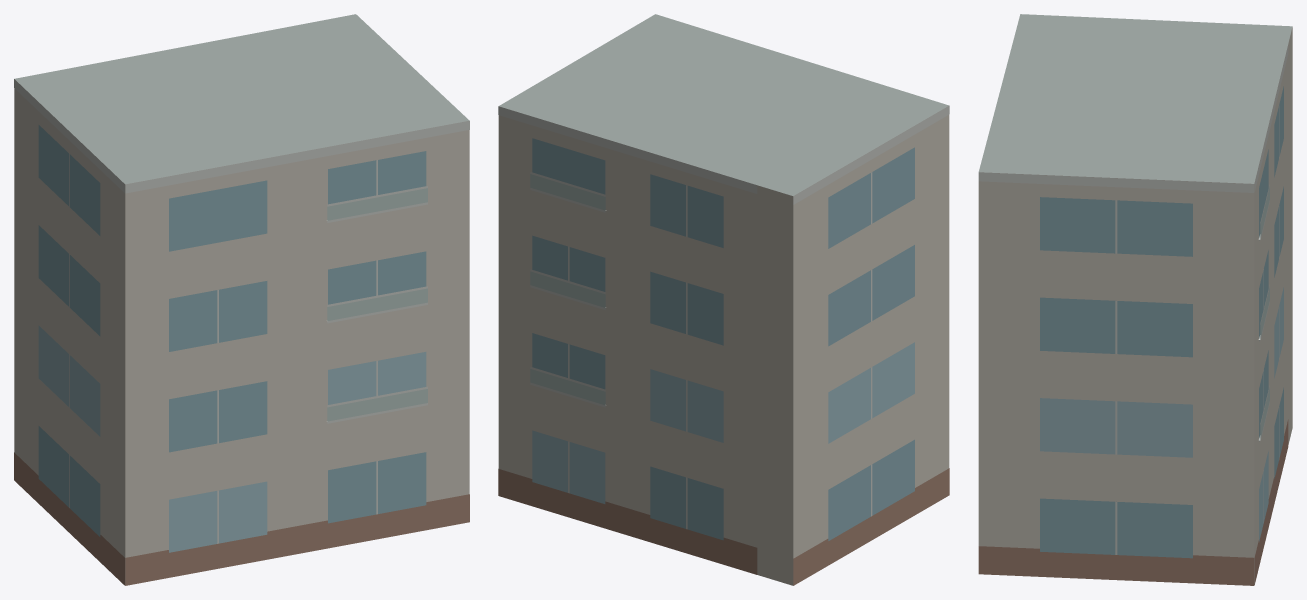
File: survey-upis-32565678.glb
3 views of the same model, side by side, from view 1: azimuth 30°, elevation 25°; view 2: azimuth 150°, elevation 25°; view 3: azimuth 270°, elevation 25° (orthographic). The views are drawn at different scales.
Parts seen in each view (by area): view 1: survey-upis-32565678.tmp; view 2: survey-upis-32565678.tmp; view 3: survey-upis-32565678.tmp.
Boxes of the visible parts, x1,y1,x2,y2 form: survey-upis-32565678.tmp: (14, 14, 469, 585); survey-upis-32565678.tmp: (498, 14, 949, 585); survey-upis-32565678.tmp: (978, 14, 1292, 585).
Size of the model in its own units: 9.71 by 10.7 by 7.58.
